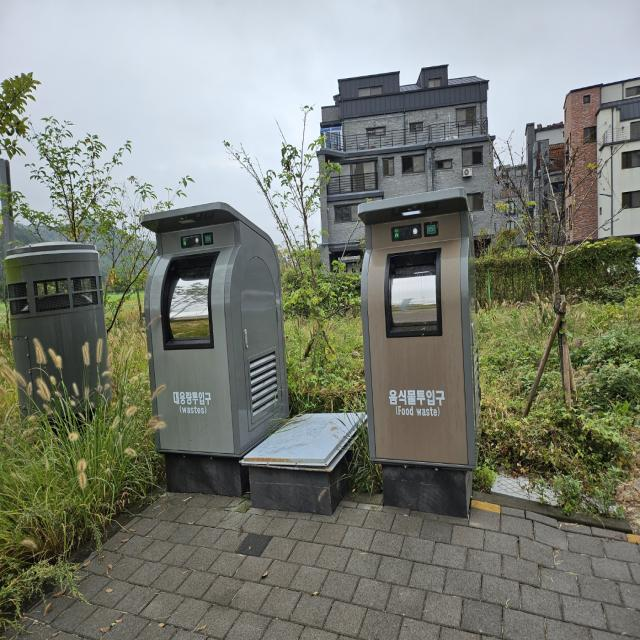CleanNet: (350, 180, 505, 528), (130, 187, 301, 498)
